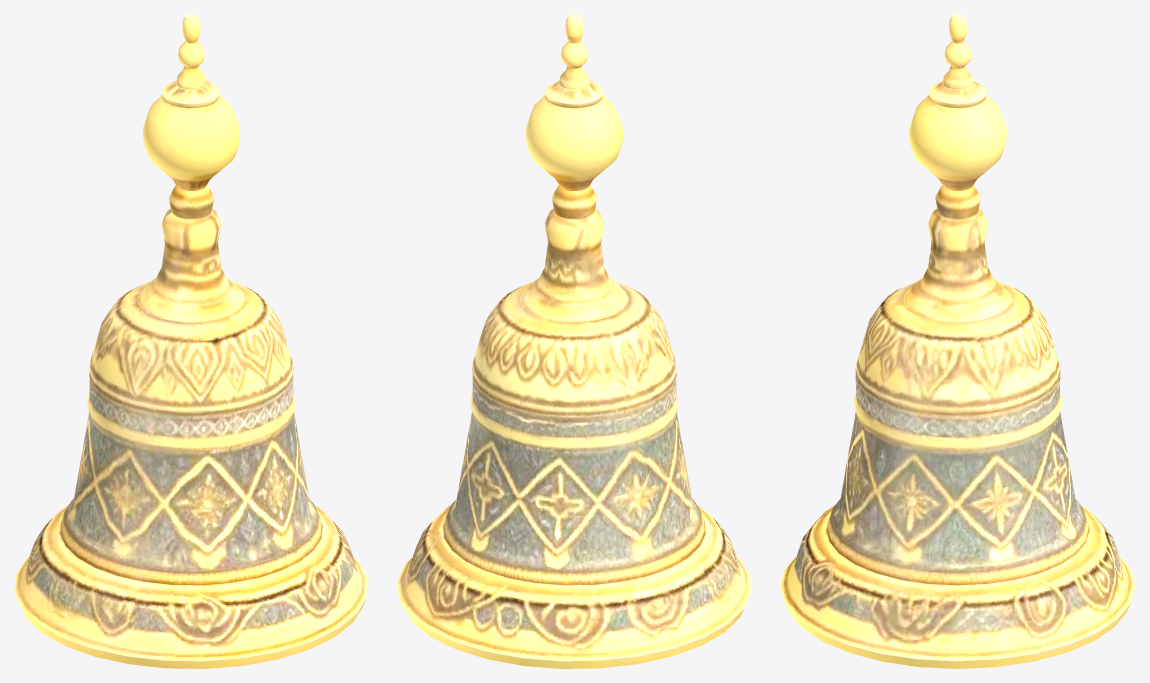
File: bell.glb
3 views of the same model, side by side, from view 1: azimuth 30°, elevation 25°; view 2: azimuth 150°, elevation 25°; view 3: azimuth 270°, elevation 25° (orthographic).
Parts seen in each view (by area): view 1: Bell; view 2: Bell; view 3: Bell.
Boxes of the visible parts, bbox=[...] form: Bell: bbox=[14, 14, 368, 668]; Bell: bbox=[397, 14, 751, 668]; Bell: bbox=[780, 14, 1135, 668].
Bounding box in the file's own units: 1.11 × 2 × 1.11.
1 material, 1 textured.
